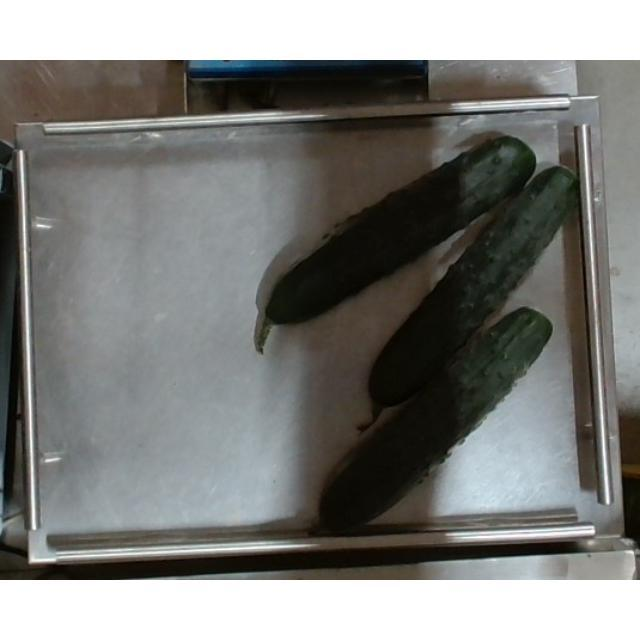cucumber: (258, 134, 542, 338), (366, 165, 576, 435), (311, 298, 555, 530)
